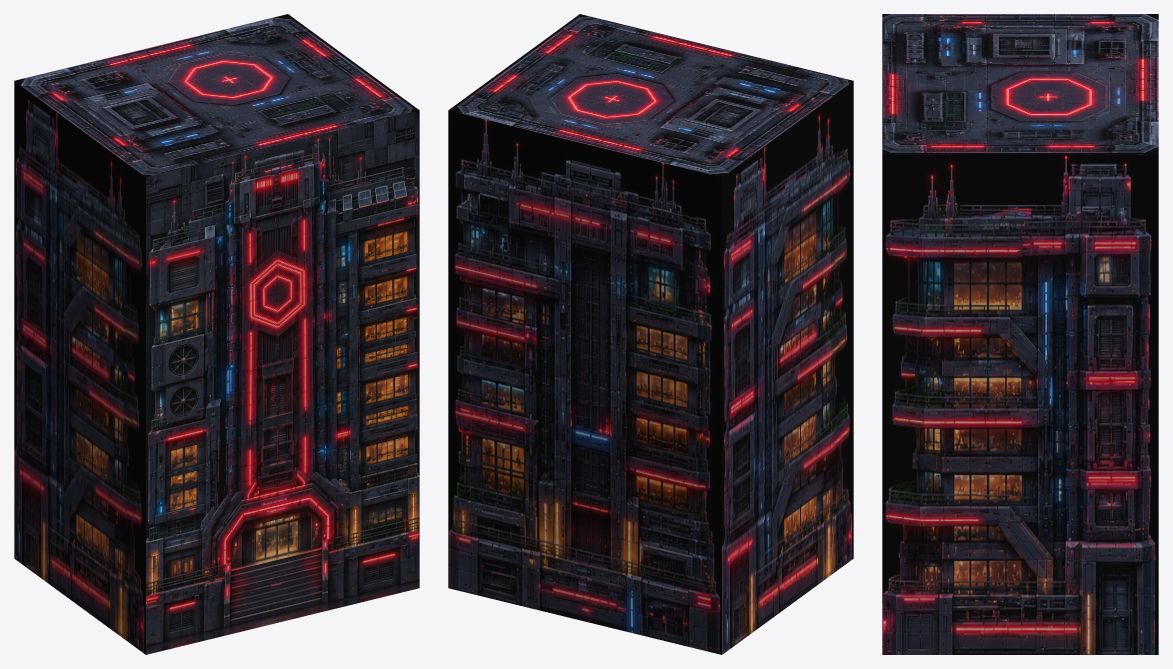
File: s12Shop_LOD1.glb
3 renders of one model, left to right at view 1: azimuth 30°, elevation 25°; view 2: azimuth 150°, elevation 25°; view 3: azimuth 270°, elevation 25°, orthographic. The views are drawn at different scales.
Parts seen in each view (by area): view 1: Cube; view 2: Cube; view 3: Cube.
Boxes of the visible parts, box(x1,y1,x2,y2) form: Cube: box(14, 14, 419, 654); Cube: box(448, 14, 853, 654); Cube: box(882, 14, 1158, 654).
Size of the model in its own units: 1.2 by 2 by 1.
Materials: 6 (6 with a texture image).
